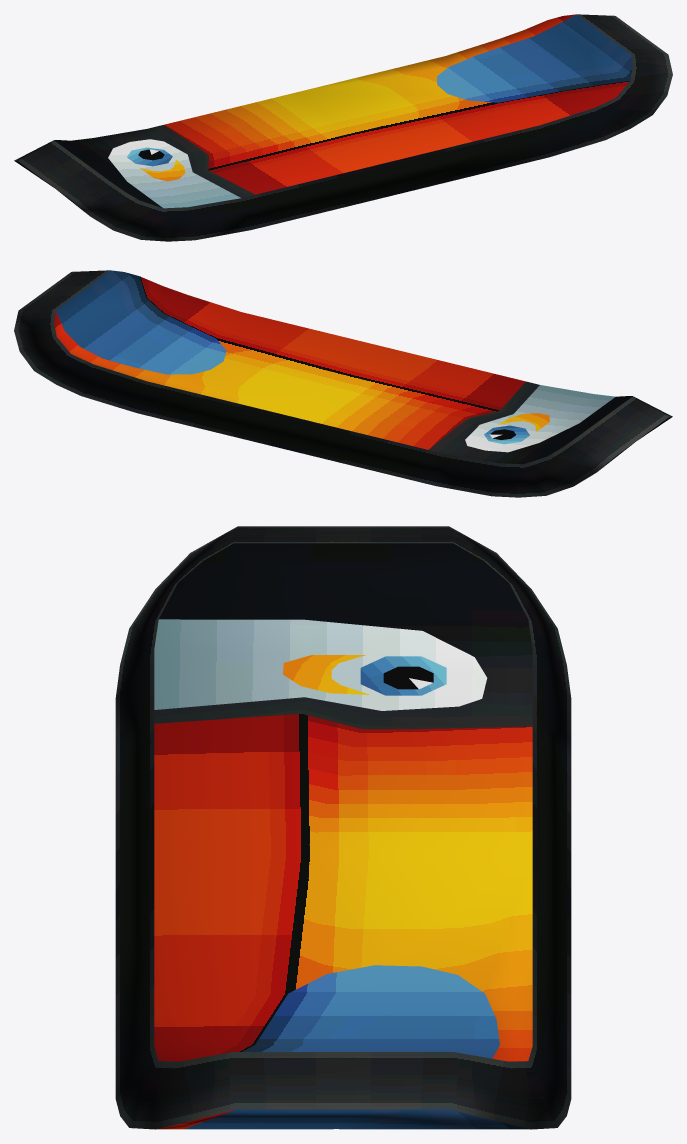
Rendered from TucanBoard.glb.
3 renders of one model, top to bottom at view 1: azimuth 30°, elevation 25°; view 2: azimuth 150°, elevation 25°; view 3: azimuth 270°, elevation 25°, orthographic. The views are drawn at different scales.
Visible parts, largest first — view 1: TucanBoard; view 2: TucanBoard; view 3: TucanBoard.
Part boxes in pixels (x1,y1,x2,y2): TucanBoard: [14, 14, 672, 241]; TucanBoard: [14, 270, 672, 497]; TucanBoard: [115, 526, 571, 1129].
Bounding box in the file's own units: 8.35 × 0.7316 × 2.76.
1 material, 1 textured.
